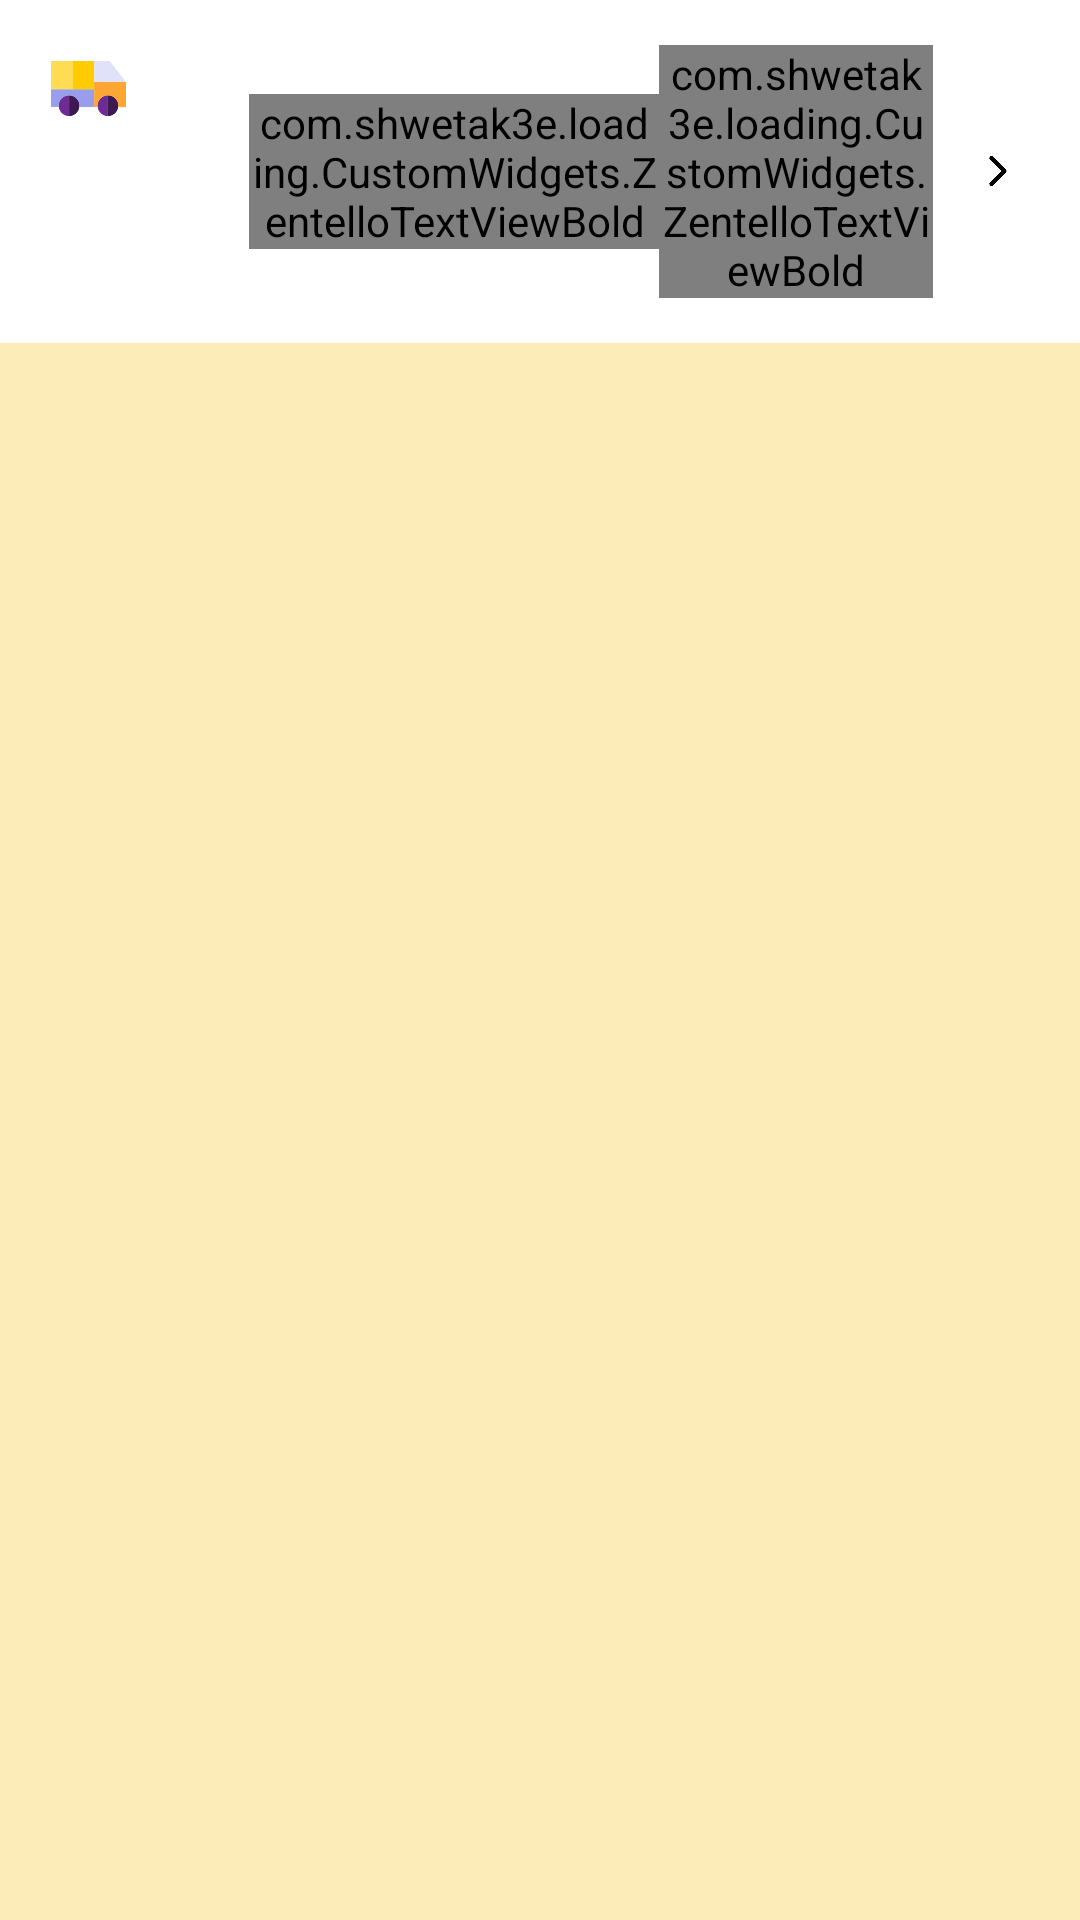

Where icons sit on this 1080x1920 app screen, as (x1, y1, x2, y2):
forward arrow: (989, 156, 1007, 186)
truck: (51, 61, 126, 116)
